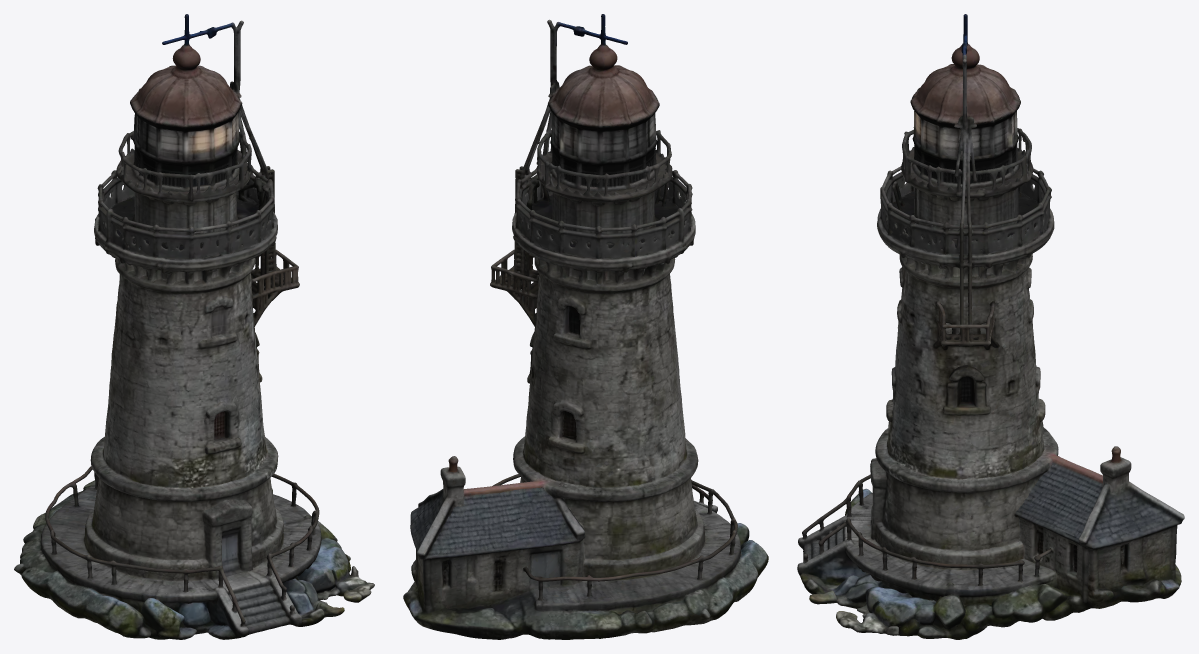
The model's file is lighthouse.glb.
The picture shows the model from 3 angles, left to right: view 1: azimuth 30°, elevation 25°; view 2: azimuth 150°, elevation 25°; view 3: azimuth 270°, elevation 25°; orthographic projection.
Parts seen in each view (by area): view 1: geometry_0; view 2: geometry_0; view 3: geometry_0.
Part boxes in pixels (left/top/right/bottom): geometry_0: left=14, top=14, right=374, bottom=639; geometry_0: left=403, top=14, right=768, bottom=639; geometry_0: left=797, top=14, right=1184, bottom=639.
Bounding box in the file's own units: 0.5176 × 1 × 0.6247.
1 material, 1 textured.
